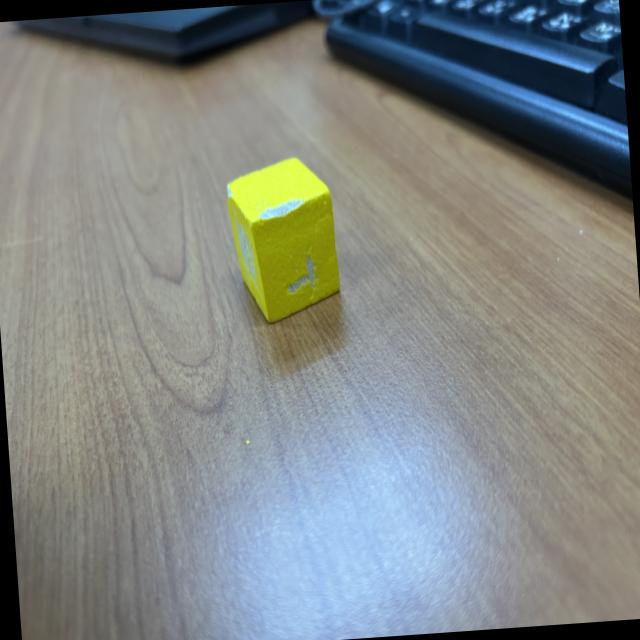broken: (222, 152, 344, 326)
